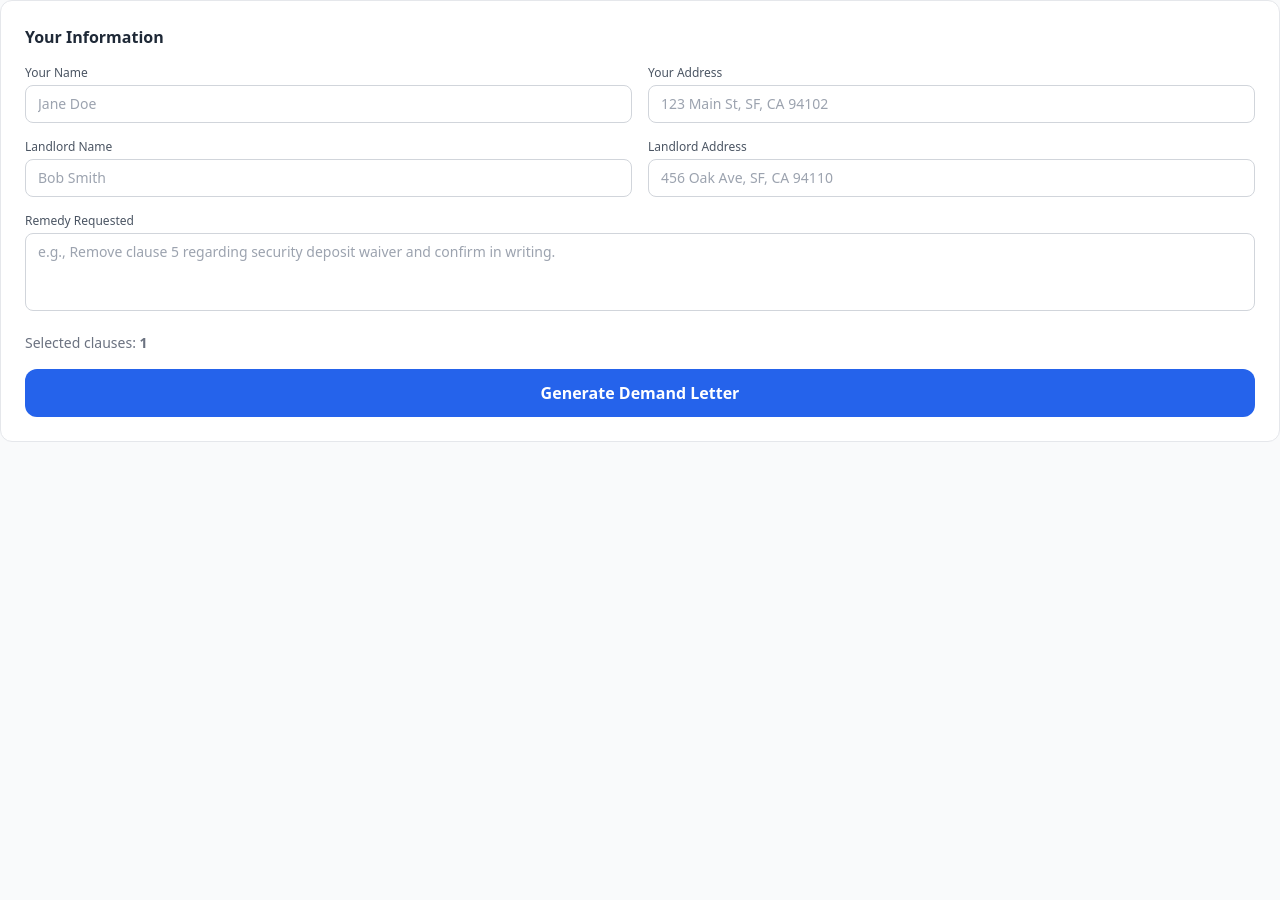
Test: DemandLetter › shows the Download button after letter is generated
The width and height of the screenshot is (1280, 900).
Click the button "Generate Demand Letter". click: [640, 393]
box: [25, 369, 1255, 417]
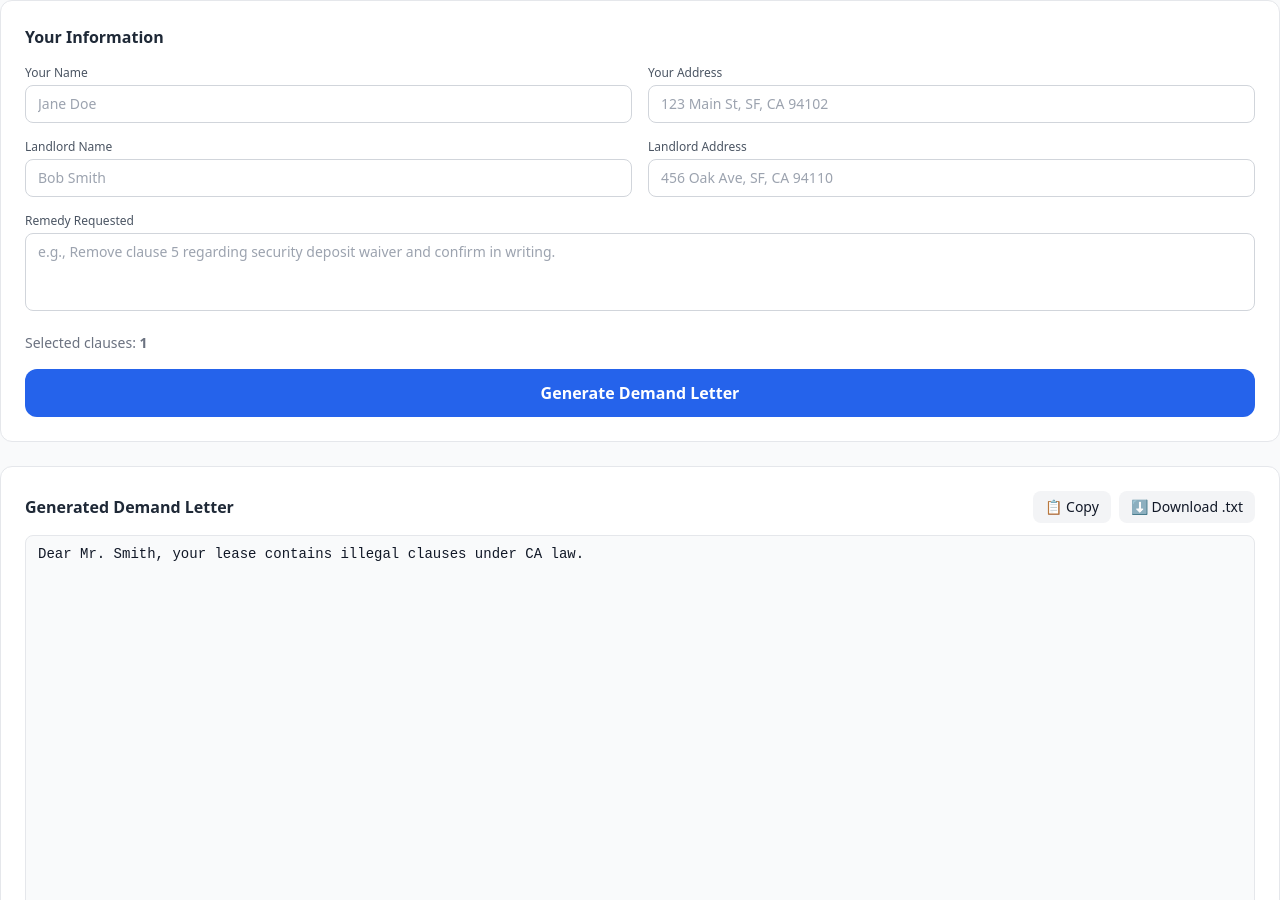
Expected: the button "⬇️ Download .txt" is shown, [1119, 491, 1255, 523]
